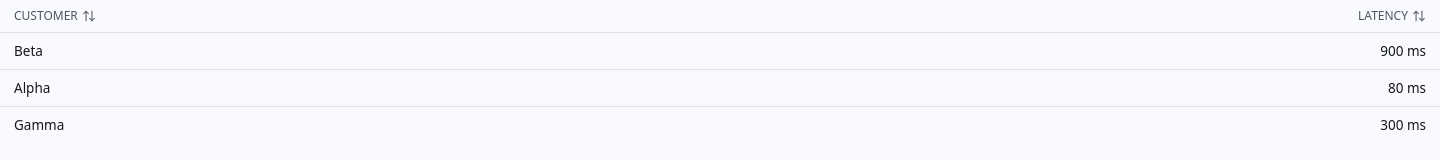
Test: DataTable › sorts on header click and updates aria-sort
The image size is (1440, 160).
Click the button "Latency". click: (1392, 16)
box: [1354,8,1430,24]
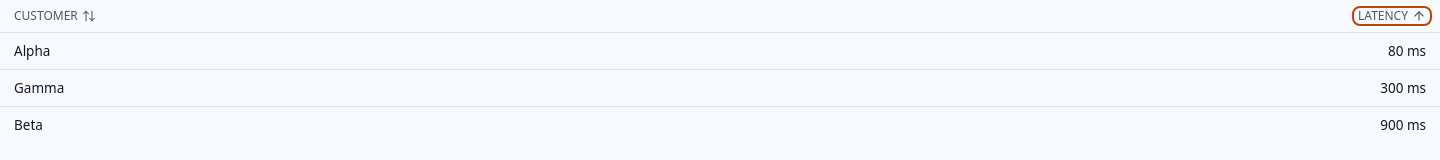
Expected: the column heading "Latency" has attribute aria-sort="ascending", [768,0,1439,32]
Click the button "Latency". click: (1392, 16)
box: [1354,8,1430,24]
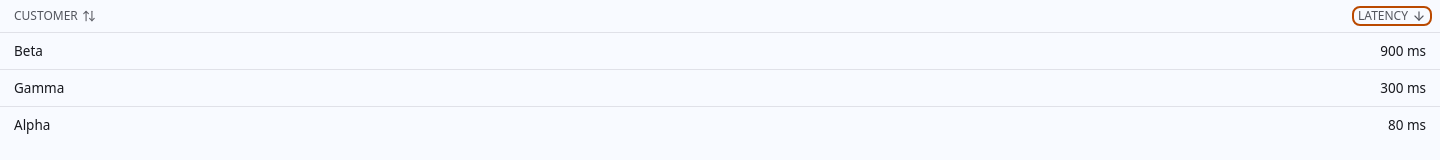
Expected: the column heading "Latency" has attribute aria-sort="descending", [768,0,1439,32]
